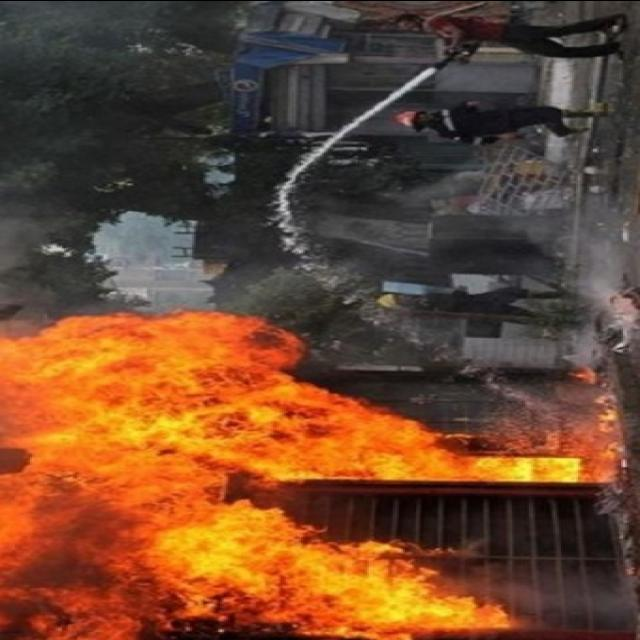Fire: (0, 318, 578, 640)
